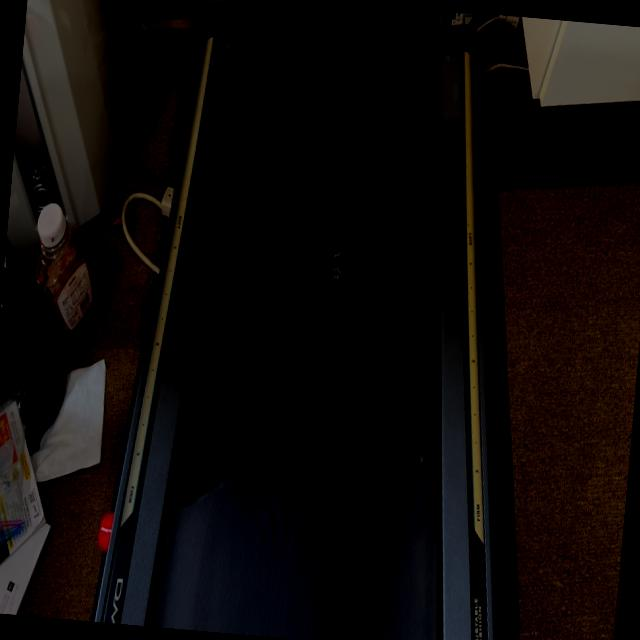Trash: (326, 237, 360, 308)
